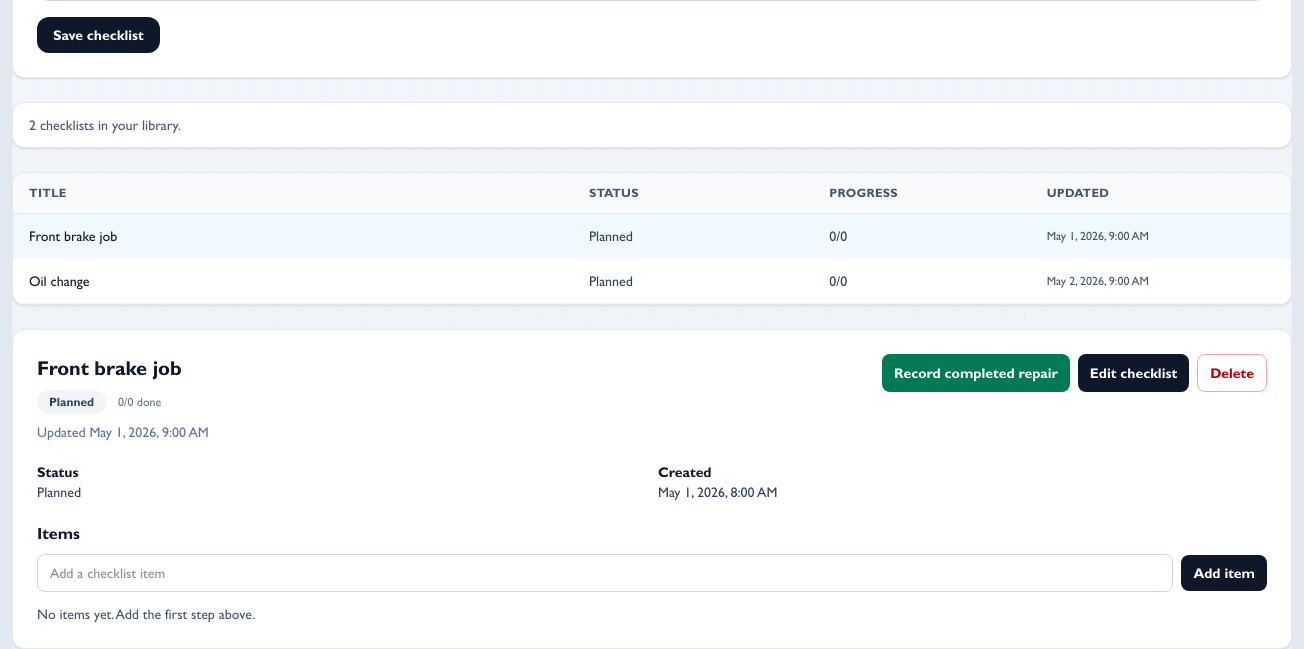
Scenario: clears a checklist's saved-status banner when a different checklist is selected
(page scrolled)
Expected: the heading "Front brake job" is shown, top-left (37, 356), bottom-right (182, 380)
What coordinates should you click on to do the following:
click the button "Edit checklist"
I would click on:
 (1133, 373)
Its box is top-left (1078, 354), bottom-right (1189, 392).
(page scrolled)
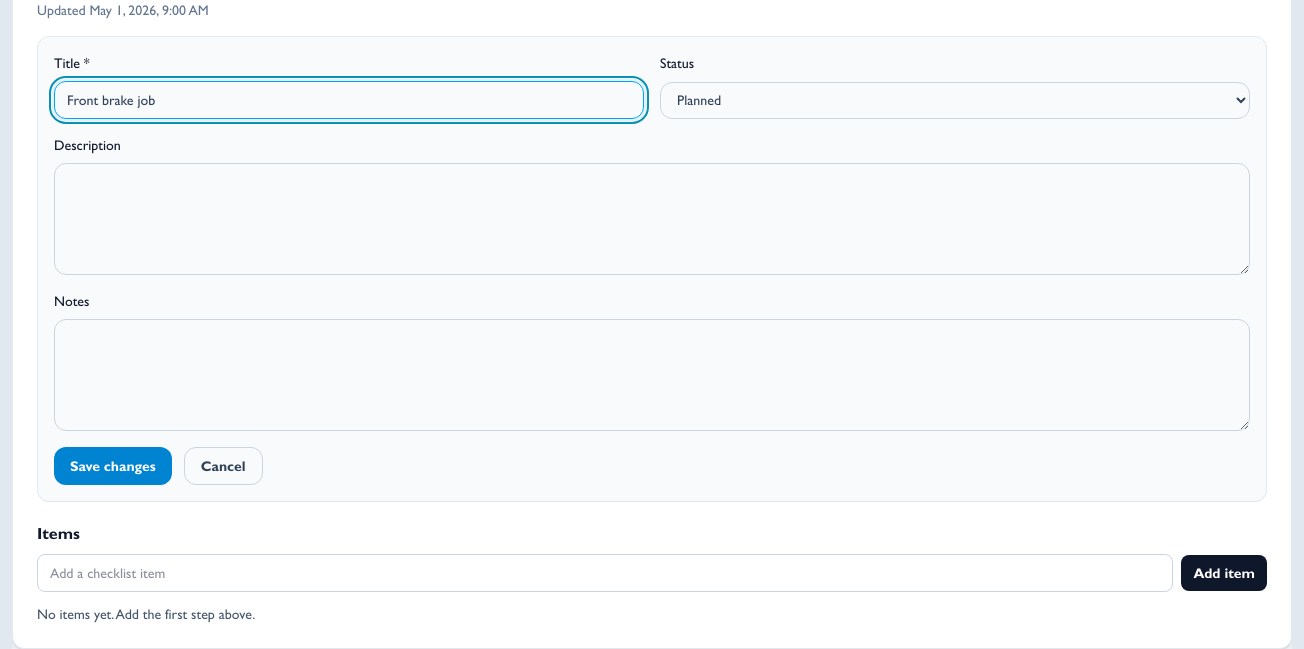
What coordinates should you click on to do the following:
click the button "Save changes"
I would click on:
 (113, 466)
Its box is top-left (54, 447), bottom-right (172, 485).
(page scrolled)
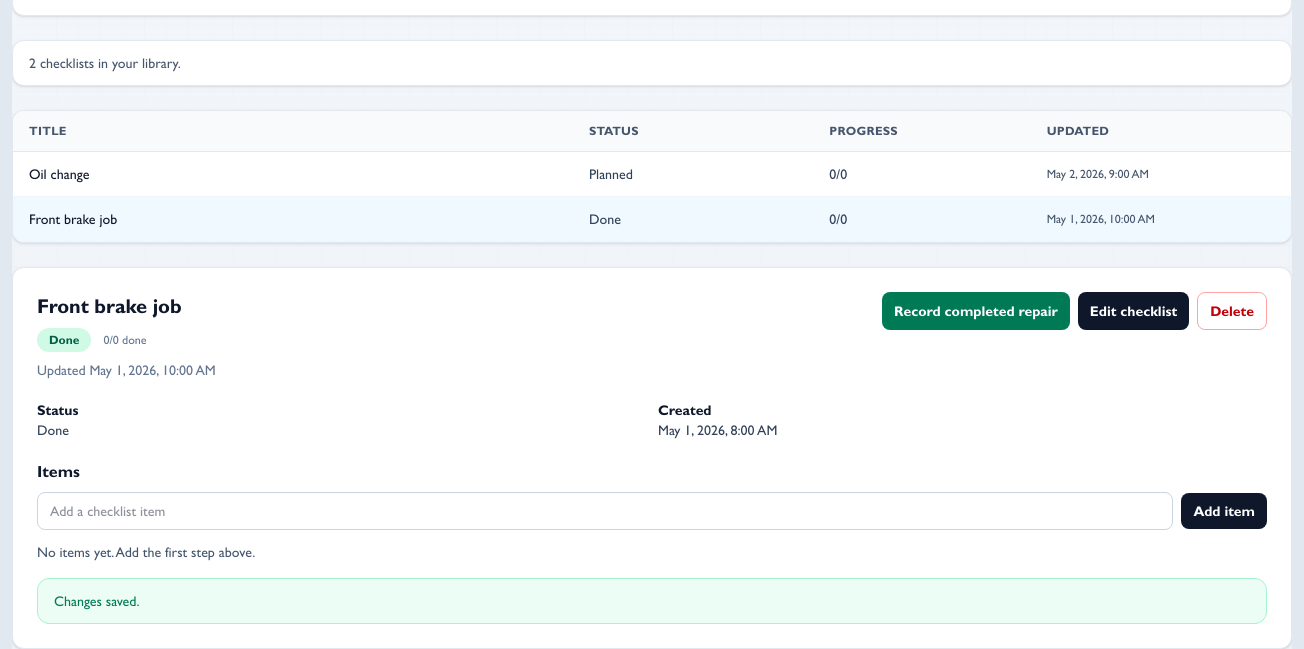
Now the text "Changes saved." is shown, box top-left (37, 578), bottom-right (1267, 624)
// Switch to checklist B by clicking its row in the list.
What coordinates should you click on to do the following:
click the text "Oil change"
I would click on:
 (59, 174)
Its box is top-left (29, 166), bottom-right (89, 182).
(page scrolled)
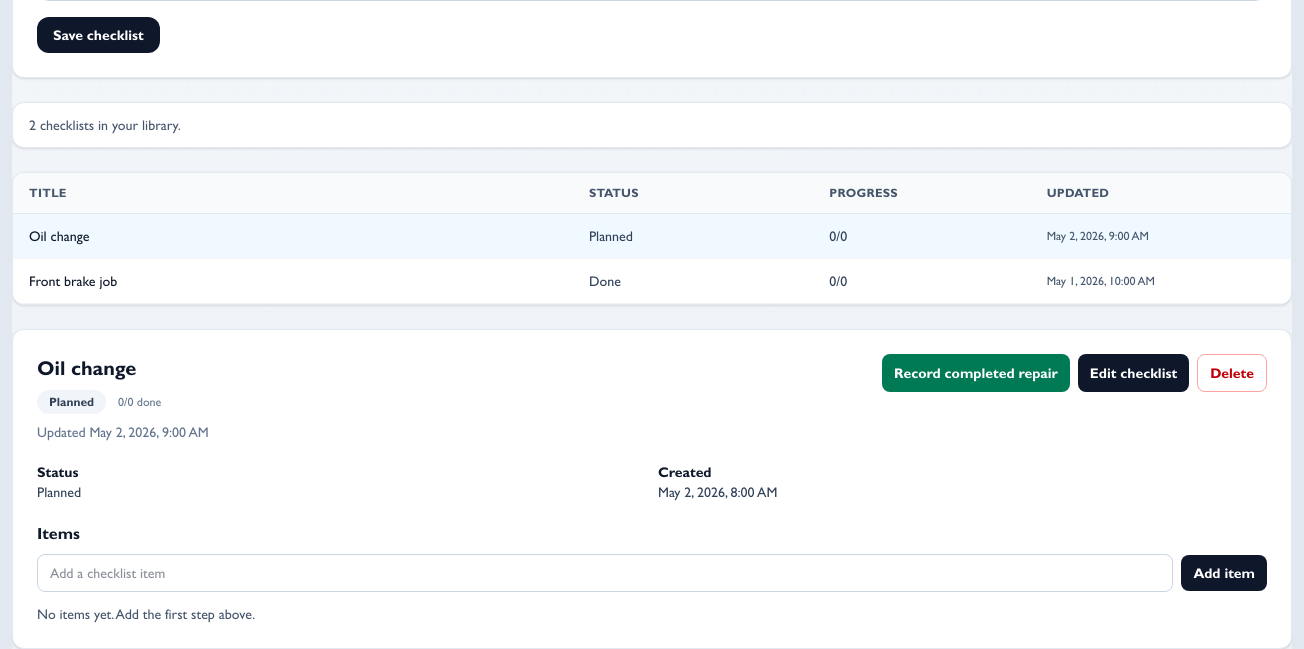
Now the heading "Oil change" is shown, box top-left (37, 356), bottom-right (136, 380)
Now the text "Changes saved." is gone
